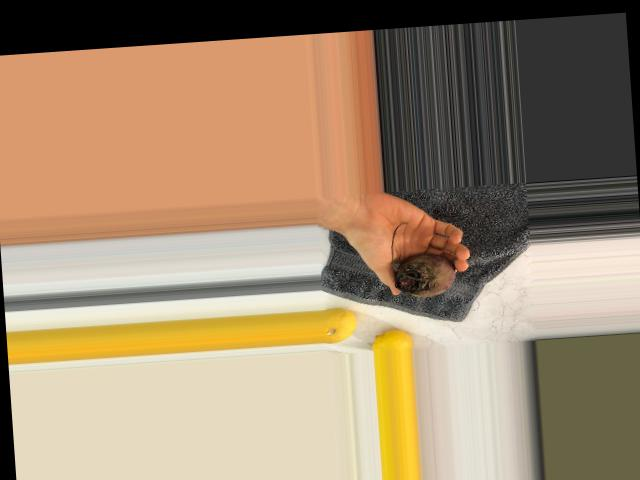beet: (391, 219, 458, 299)
